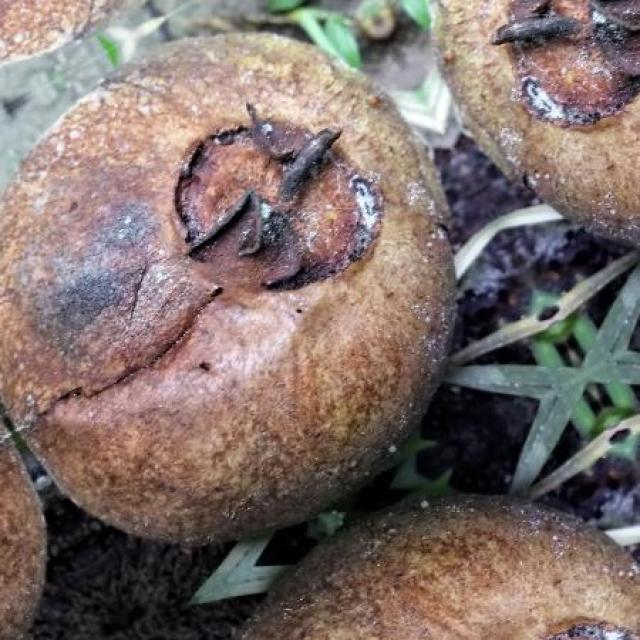Phytopthora: (0, 34, 455, 541), (242, 498, 640, 640)
